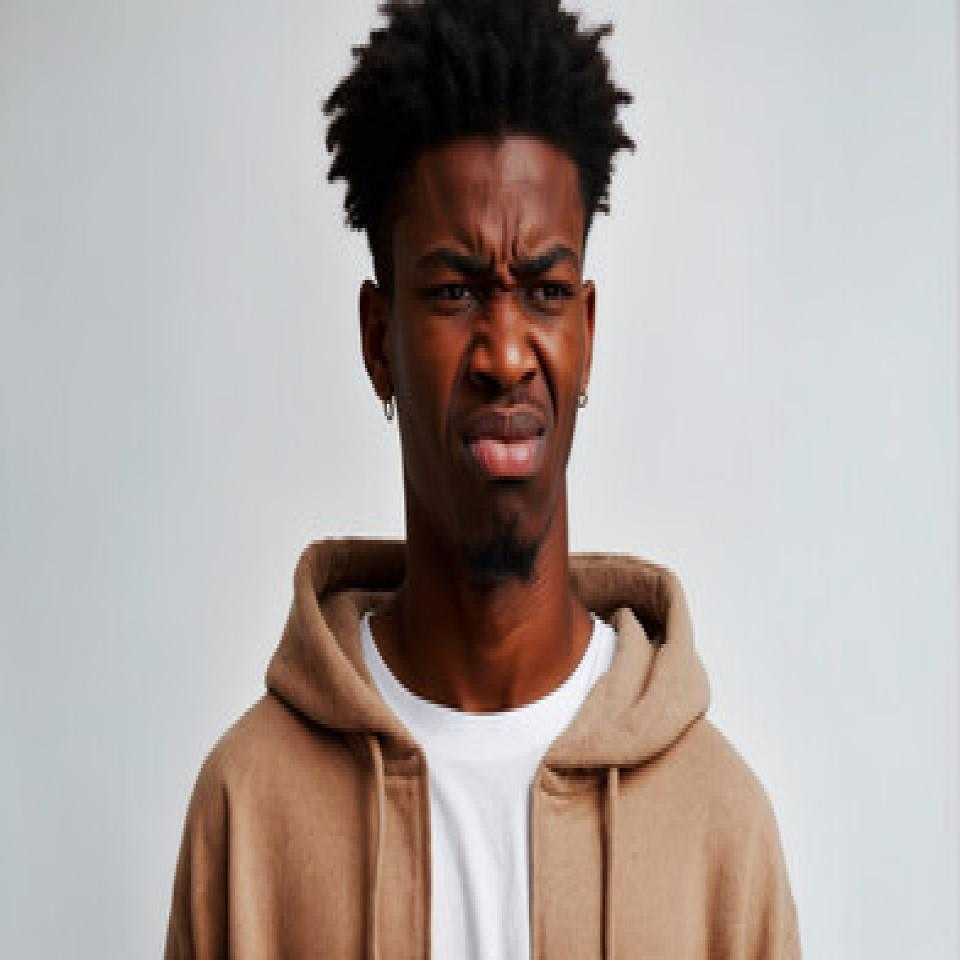Disgust: (393, 133, 580, 556)
